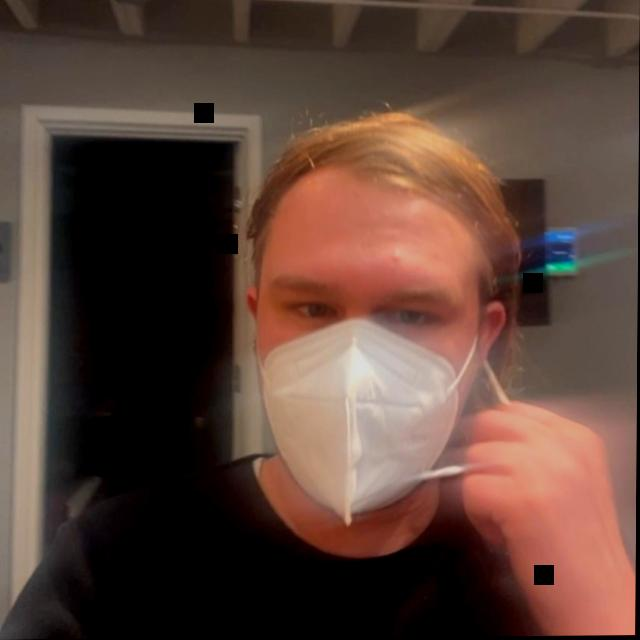Mask: (237, 103, 526, 559)
